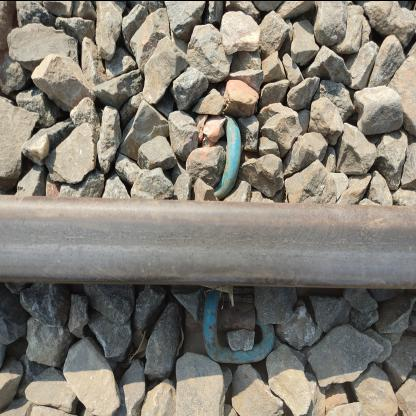Non Defective 1: (265, 126, 380, 228)
